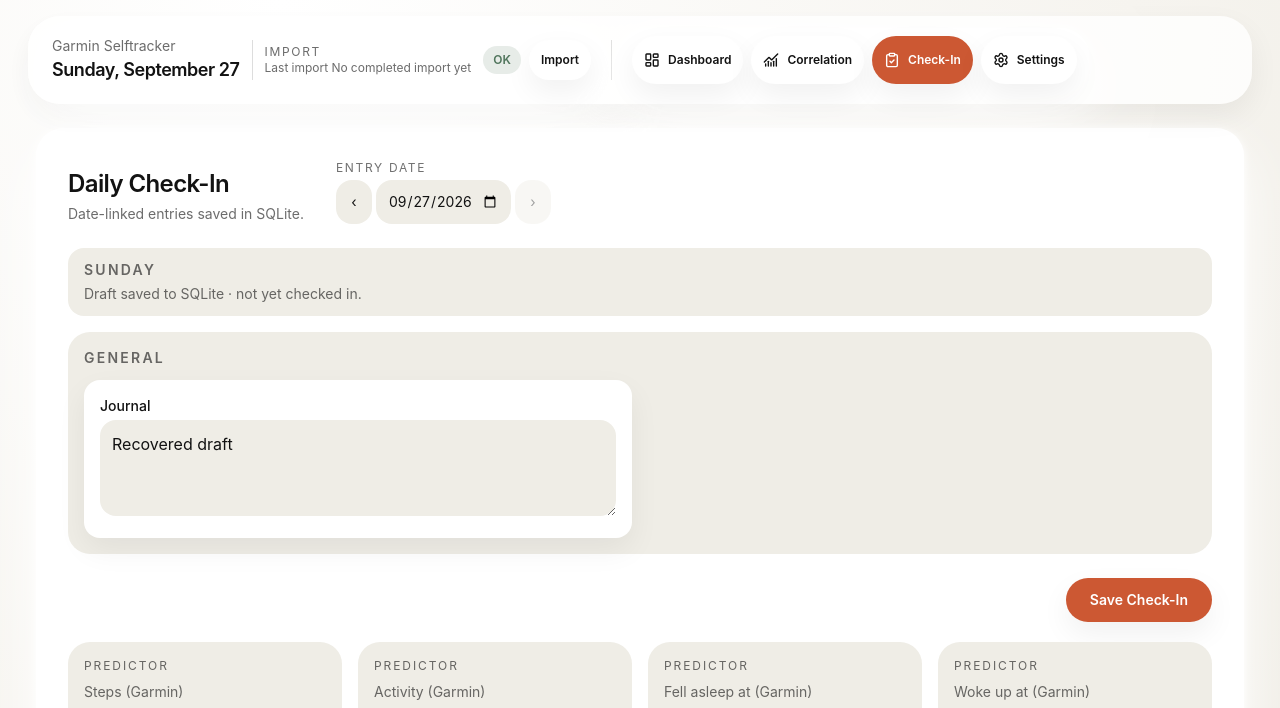
it: App persistence workflows › restores a SQLite draft and clears its draft status after final save
This screenshot has width=1280, height=708.
Expected: the text box with placeholder "Optional note" holds "Recovered draft", x1=100 y1=420 x2=616 y2=516
Expected: the text "Draft saved to SQLite · not yet checked in." is shown, x1=84 y1=285 x2=362 y2=302
Click the button "Save Check-In" at [1139, 600], box x1=1066 y1=578 x2=1212 y2=622
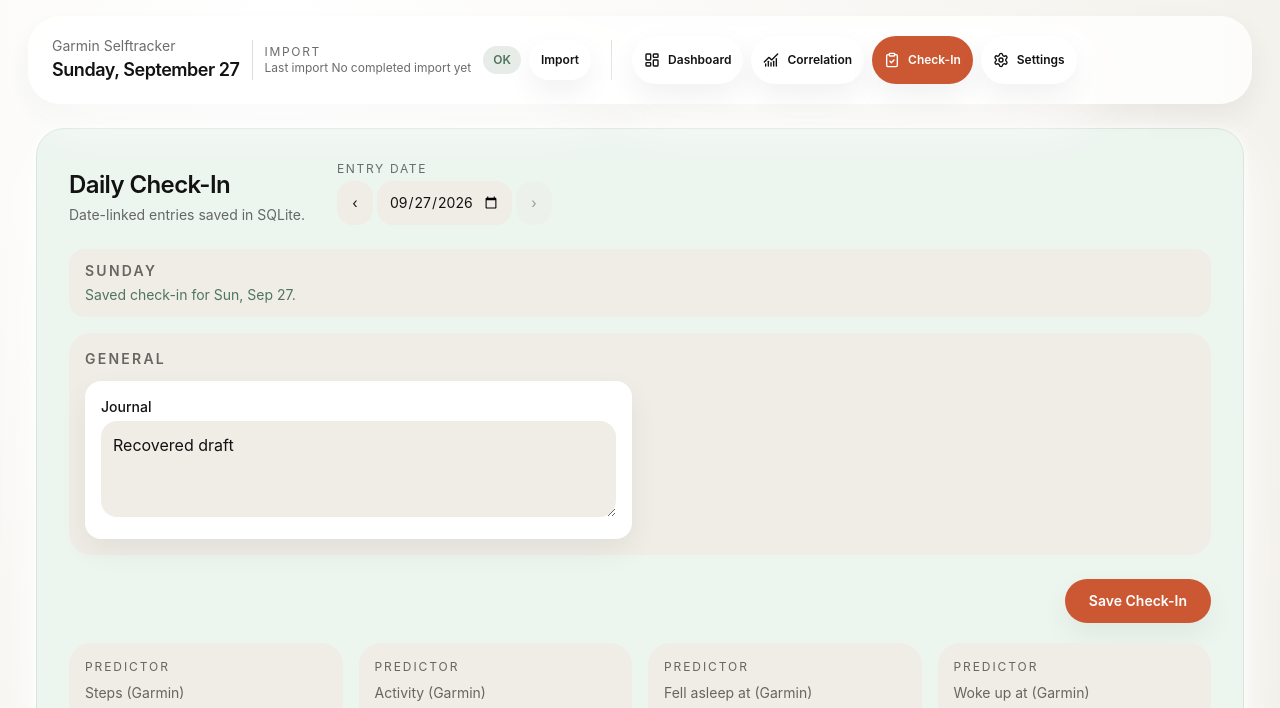
Expected: the text "Saved check-in for Sun, Sep 27." is shown, x1=85 y1=286 x2=296 y2=303
Expected: the text "Draft saved to SQLite" is gone
